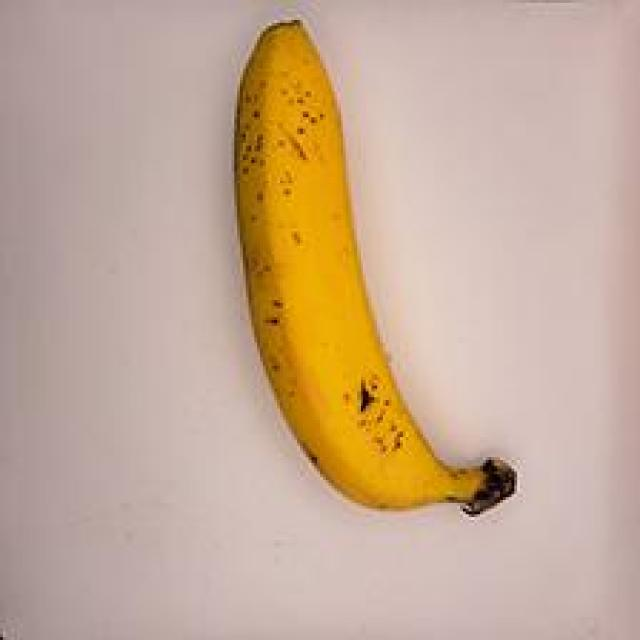Overripe: (187, 6, 547, 552)
